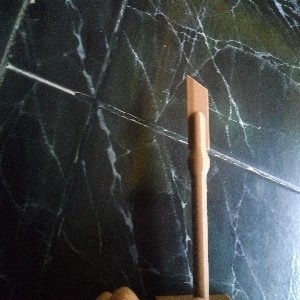cutter: (185, 73, 211, 300)
